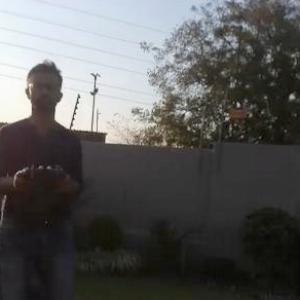follow: (0, 52, 88, 299)
